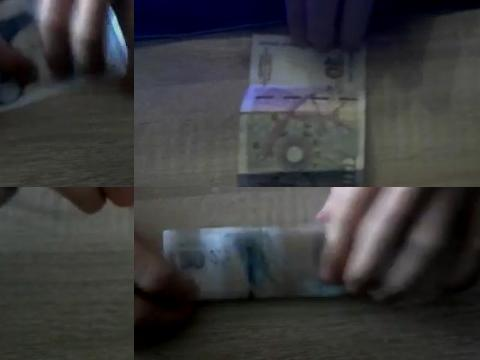10leva: (236, 38, 365, 187)
20leva: (162, 225, 343, 302), (0, 82, 81, 115)
